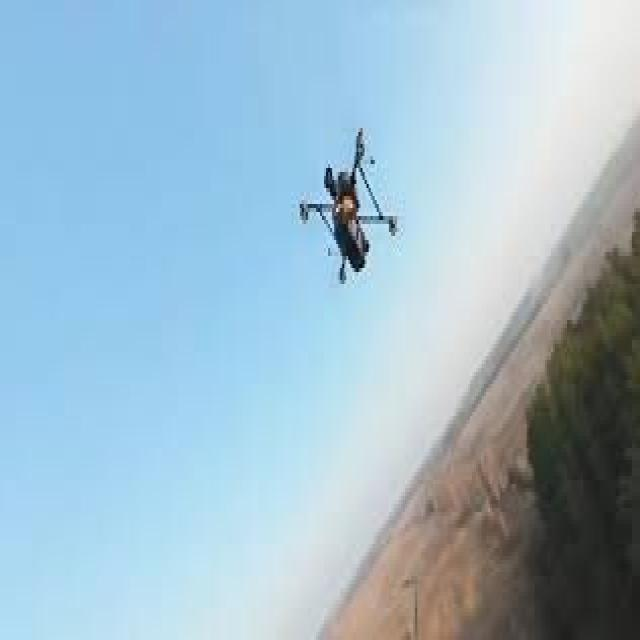drone: (292, 124, 407, 293)
